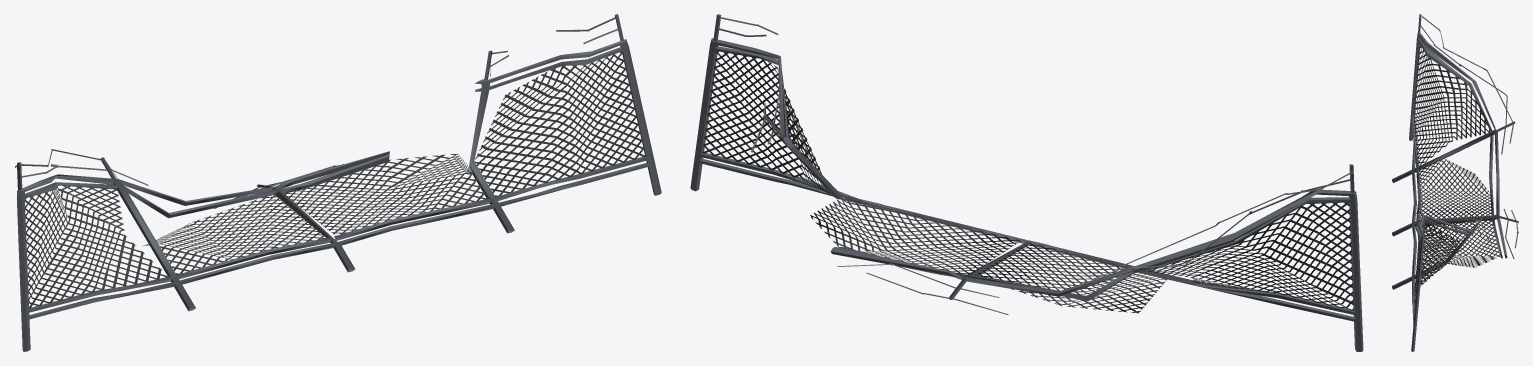
File: SM_Prop_Fence_Damaged_04.glb
The picture shows the model from 3 angles, left to right: view 1: azimuth 30°, elevation 25°; view 2: azimuth 150°, elevation 25°; view 3: azimuth 270°, elevation 25°; orthographic projection. The views are drawn at different scales.
Visible parts, largest first — view 1: SM_Prop_Fence_Damaged_04; view 2: SM_Prop_Fence_Damaged_04; view 3: SM_Prop_Fence_Damaged_04.
Part boxes in pixels (x1,y1,x2,y2): SM_Prop_Fence_Damaged_04: (14,14,661,351); SM_Prop_Fence_Damaged_04: (690,14,1363,351); SM_Prop_Fence_Damaged_04: (1392,14,1518,351).
Size of the model in its own units: 11.67 by 3.18 by 2.92.
Materials: 2 (2 with a texture image).
